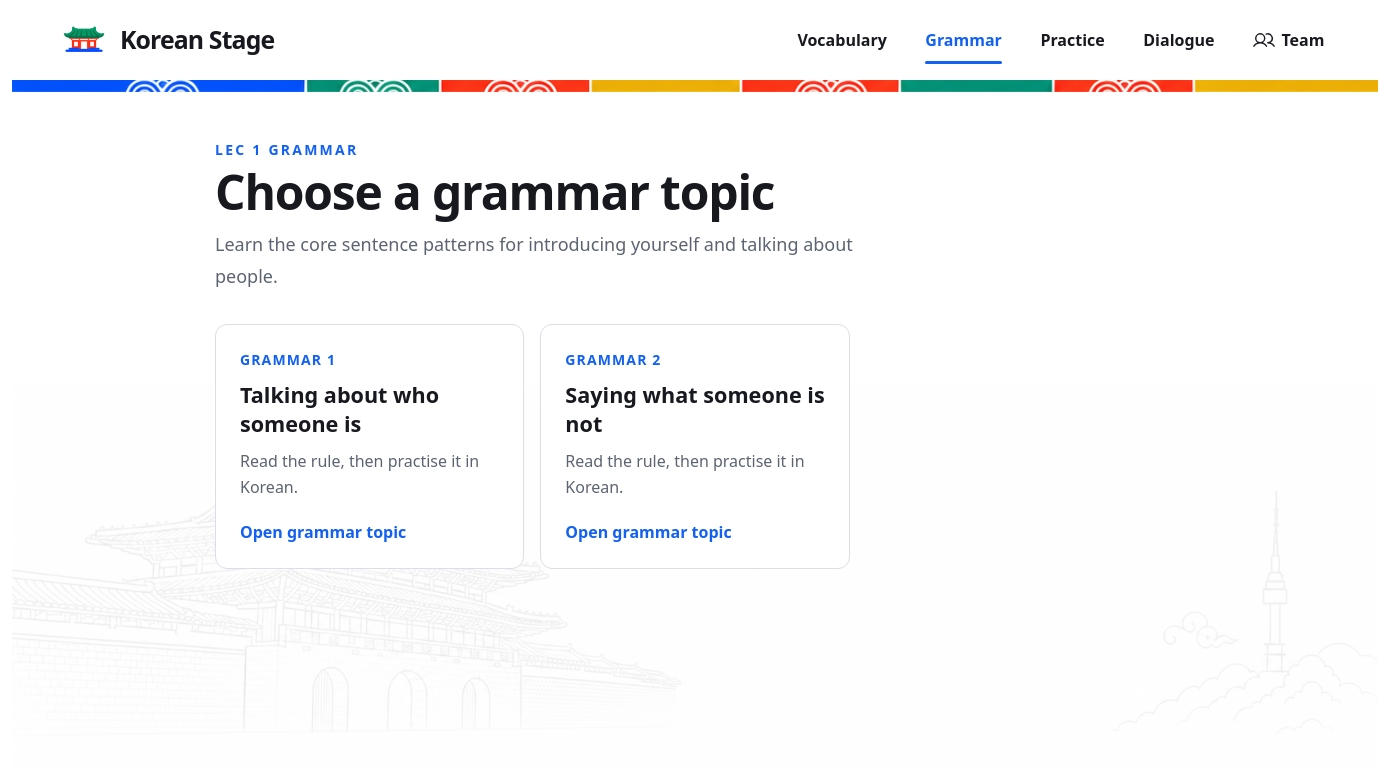
Test: Canonical lesson selection › opens a selected grammar topic on its canonical route
Click the link with aria-label "Open grammar topic 1: Talking about who someone is".
click(283, 360)  # box [215, 324, 524, 569]
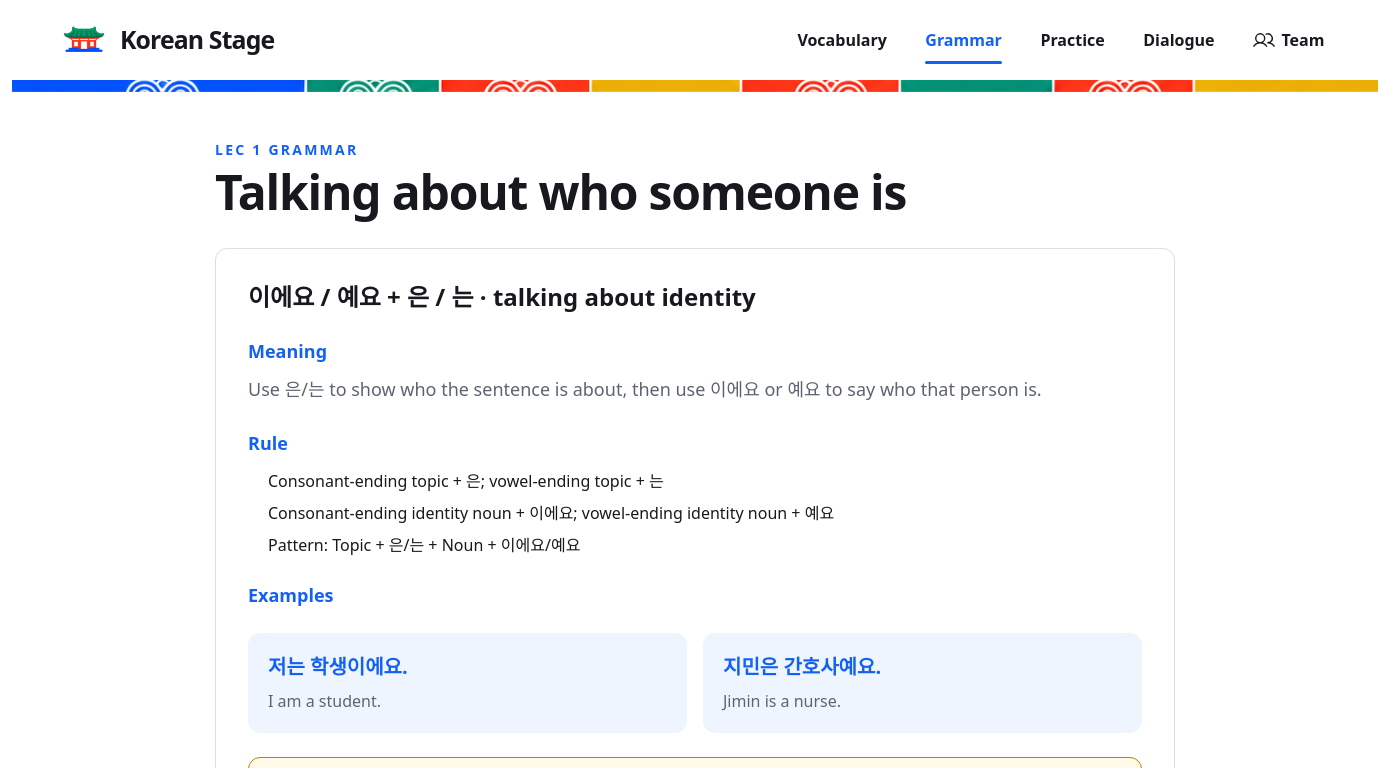
Expected: the heading "Talking about who someone is" is shown, [215, 168, 887, 216]
